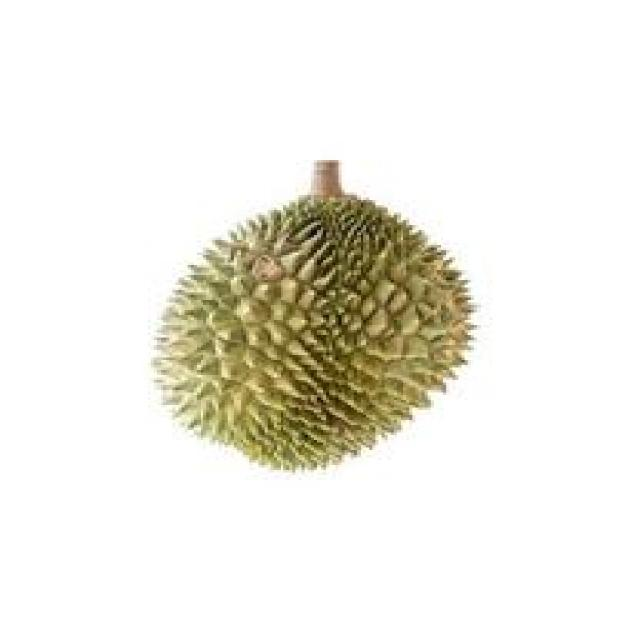fruit: (111, 165, 511, 515)
